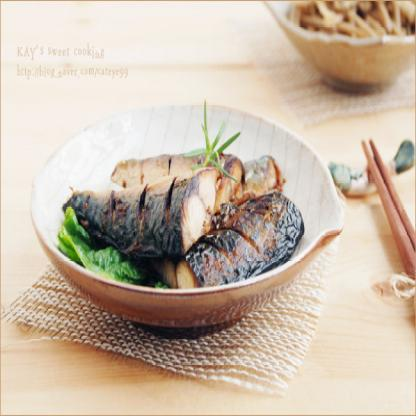Peixe: (61, 129, 313, 304)
